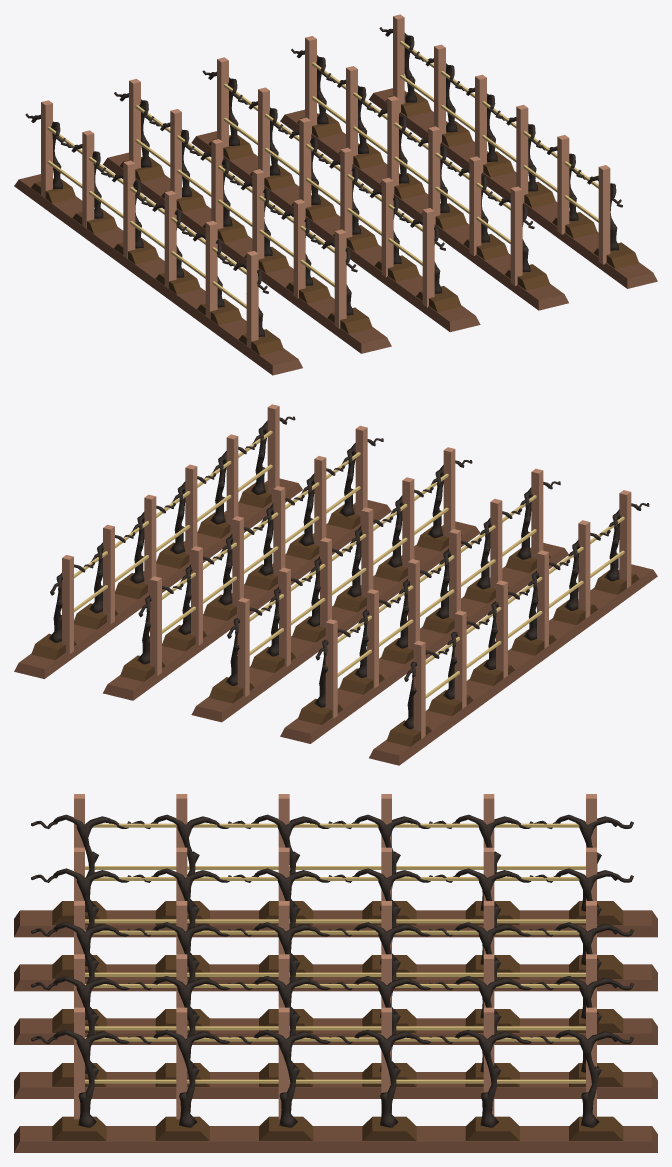
The model's file is VinesWinter.fbx.
3 views of the same model, one above another, from view 1: azimuth 30°, elevation 25°; view 2: azimuth 150°, elevation 25°; view 3: azimuth 270°, elevation 25° (orthographic). The views are drawn at different scales.
Visible parts, largest first — view 1: Trellis pole, Soil Furrow, Dirt mound, Vine M1, Trellis wire; view 2: Trellis pole, Soil Furrow, Vine M1, Dirt mound, Trellis wire; view 3: Soil Furrow, Vine M1, Dirt mound, Trellis wire, Trellis pole.
Boxes of the visible parts, <box> form: Trellis pole: <box>41,14,610,348</box>; Soil Furrow: <box>14,88,657,375</box>; Dirt mound: <box>31,91,638,355</box>; Vine M1: <box>25,27,622,336</box>; Trellis wire: <box>47,41,598,308</box>; Trellis pole: <box>62,404,631,738</box>; Soil Furrow: <box>14,478,657,765</box>; Vine M1: <box>48,416,649,729</box>; Dirt mound: <box>31,482,639,746</box>; Trellis wire: <box>74,430,624,698</box>; Soil Furrow: <box>14,910,657,1152</box>; Vine M1: <box>31,814,633,1127</box>; Dirt mound: <box>52,901,623,1140</box>; Trellis wire: <box>85,823,585,1083</box>; Trellis pole: <box>74,794,596,1119</box>.
Bounding box in the file's own units: 302 × 75.95 × 351.
